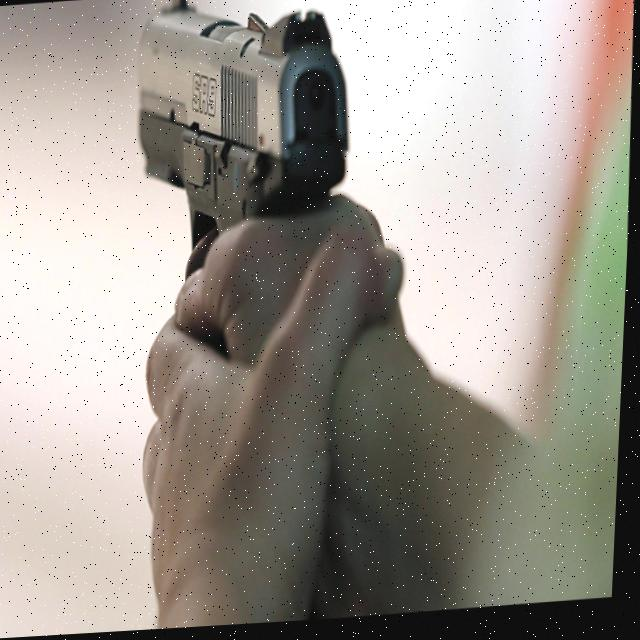pistol: (128, 0, 359, 258)
